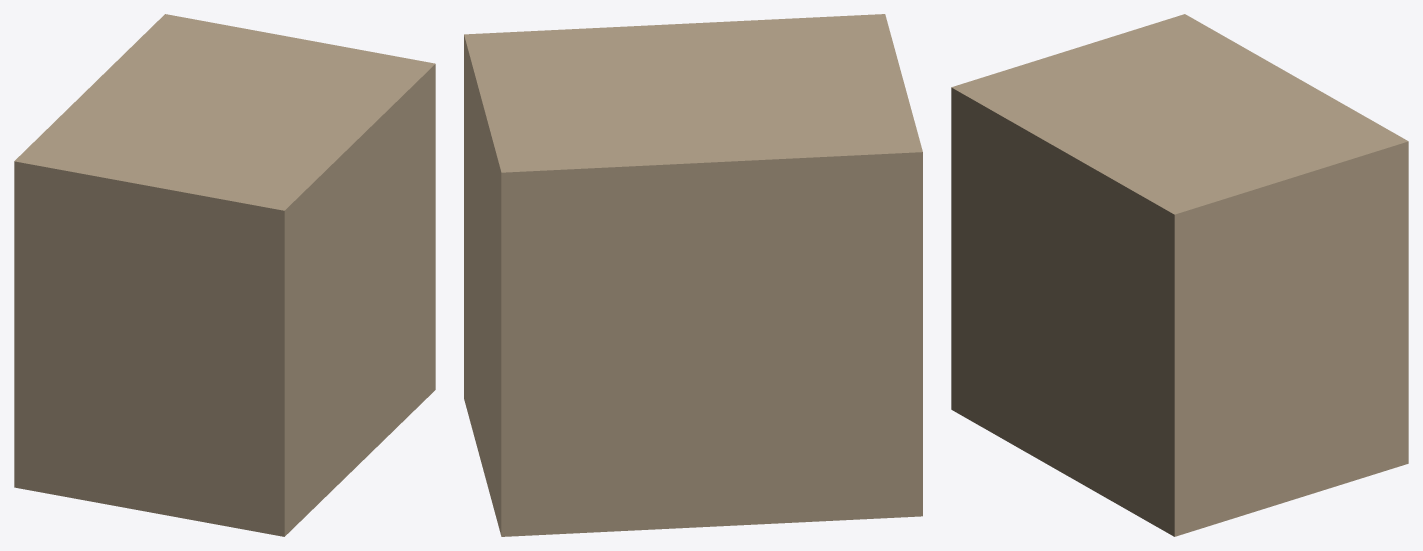
Rendered from bld_105794257.dae.
The picture shows the model from 3 angles, left to right: view 1: azimuth 30°, elevation 25°; view 2: azimuth 150°, elevation 25°; view 3: azimuth 270°, elevation 25°; orthographic projection. The views are drawn at different scales.
Parts seen in each view (by area): view 1: bld_105794257; view 2: bld_105794257; view 3: bld_105794257.
Part boxes in pixels (left/top/right/bottom): bld_105794257: left=14, top=14, right=435, bottom=536; bld_105794257: left=464, top=14, right=922, bottom=536; bld_105794257: left=951, top=14, right=1408, bottom=536.
Bounding box in the file's own units: 10.68 × 10.29 × 8.
